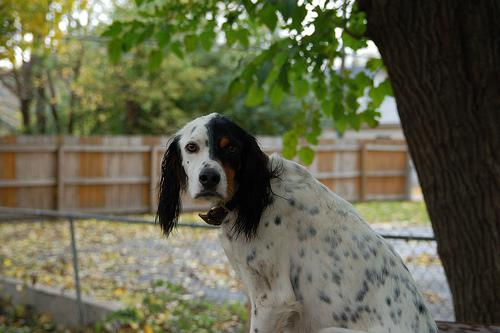dog-english_setter: (157, 112, 266, 230)
